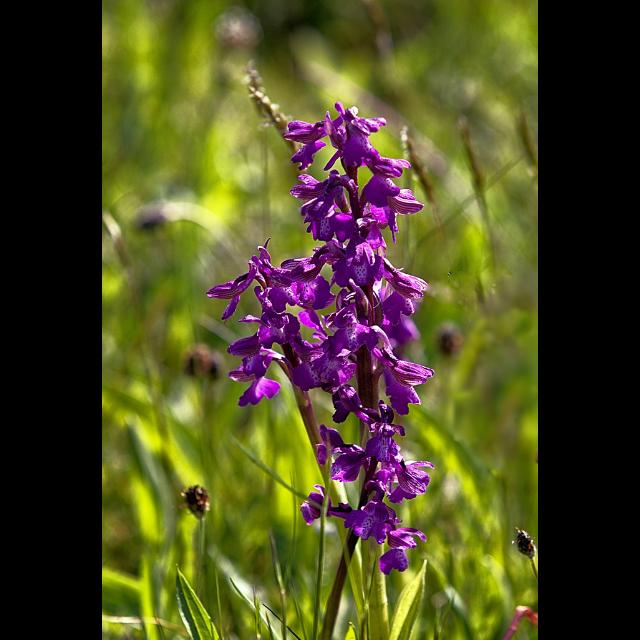Flower: (206, 100, 436, 576), (286, 114, 338, 164)
